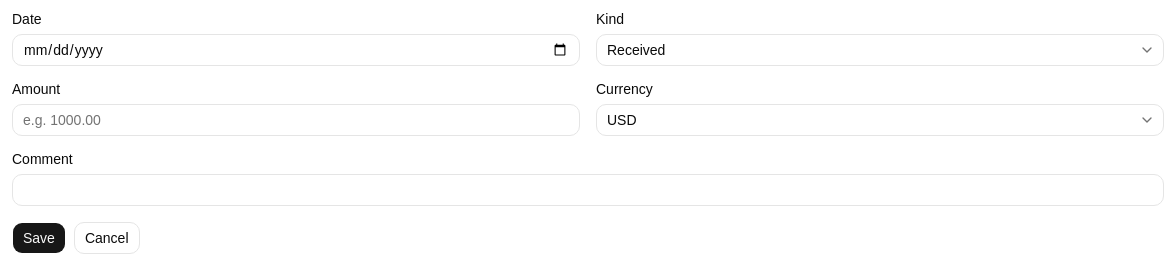
Test case: DepositMovementForm › offers the supported currencies when nothing is locked
Click the dropdown named "Currency" at (622, 120), box [596,104,1164,136]
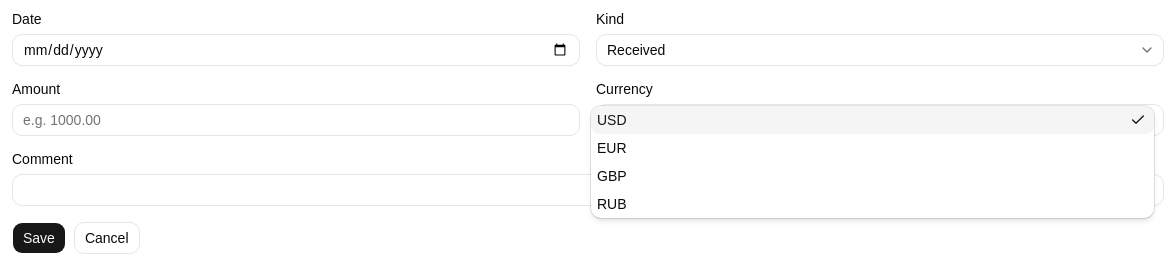
Expected: the options read "USD", "EUR", "GBP", "RUB", in this order
Click the option "GBP" at (612, 176), box [597,168,627,184]
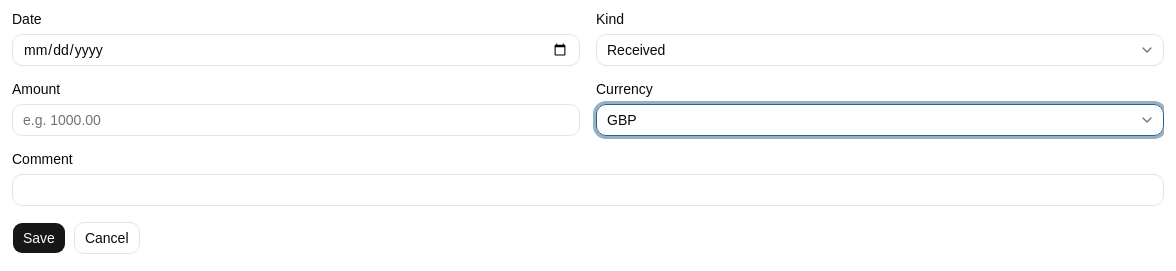
Expected: the dropdown named "Currency" reads "GBP", [596,104,1164,136]
